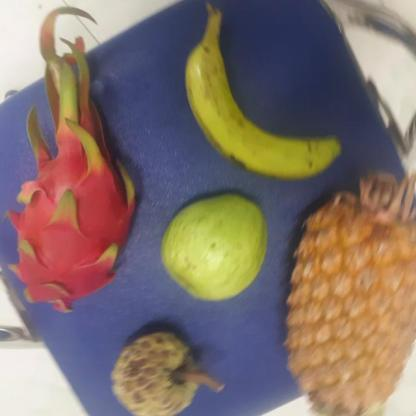annona: (107, 328, 202, 416)
banana: (178, 36, 338, 178)
guava: (154, 194, 268, 300)
pitaya: (3, 134, 132, 309)
